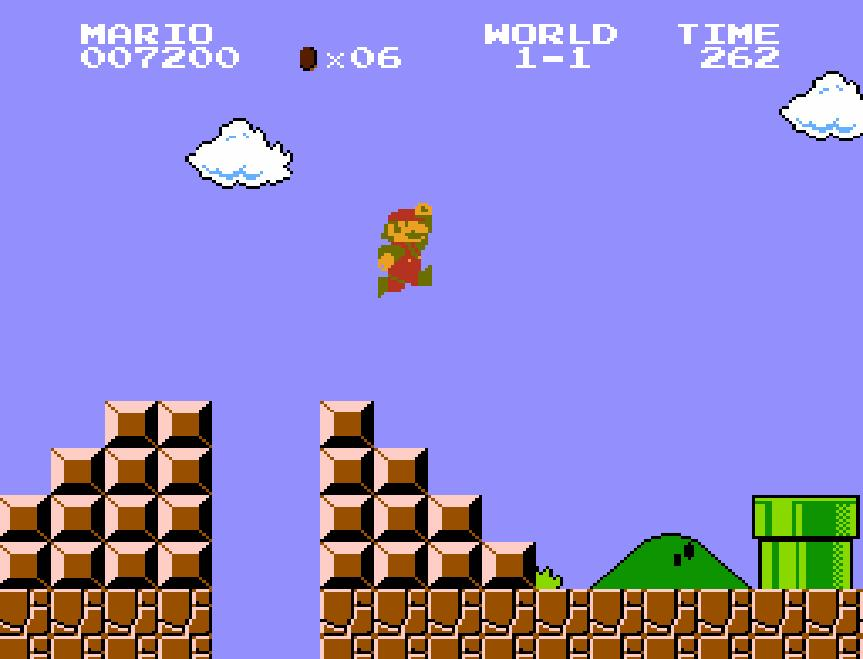big_mario: (376, 200, 434, 299)
